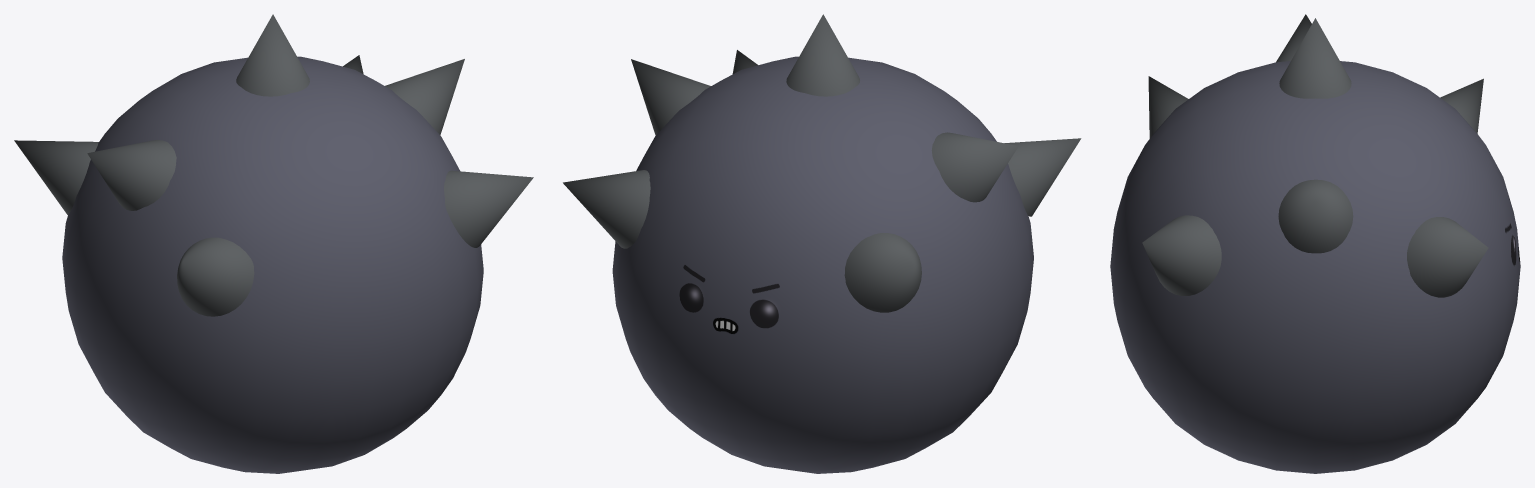
File: ball2.fbx
3 renders of one model, left to right at view 1: azimuth 30°, elevation 25°; view 2: azimuth 150°, elevation 25°; view 3: azimuth 270°, elevation 25°, orthographic.
Visible parts, largest first — view 1: Cube, Cone.003, Cone.006, Cone.002, Cone, Cone.004, Cone.001; view 2: Cube, Cone.004, Cone.005, Cone.002, Cone, Cone.003, Cone.001; view 3: Cube, Cone.006, Cone.005, Cone.001, Cone, Cone.003, Cone.004, Cone.002.
Part boxes in pixels (x1=…): Cube: x1=62, y1=56, x2=483, y2=473; Cone.003: x1=177, y1=237, x2=254, y2=316; Cone.006: x1=444, y1=170, x2=533, y2=247; Cone.002: x1=87, y1=140, x2=176, y2=210; Cone: x1=236, y1=14, x2=309, y2=96; Cone.004: x1=14, y1=140, x2=98, y2=214; Cone.001: x1=385, y1=59, x2=464, y2=135; Cube: x1=612, y1=56, x2=1033, y2=473; Cone.004: x1=844, y1=233, x2=921, y2=312; Cone.005: x1=563, y1=170, x2=650, y2=248; Cone.002: x1=931, y1=132, x2=1018, y2=202; Cone: x1=786, y1=14, x2=859, y2=96; Cone.003: x1=1004, y1=138, x2=1081, y2=216; Cone.001: x1=631, y1=59, x2=710, y2=135; Cube: x1=1110, y1=61, x2=1520, y2=473; Cone.006: x1=1142, y1=215, x2=1221, y2=295; Cone.005: x1=1407, y1=217, x2=1488, y2=297; Cone.001: x1=1278, y1=179, x2=1353, y2=253; Cone: x1=1279, y1=18, x2=1351, y2=98; Cone.003: x1=1148, y1=76, x2=1188, y2=138; Cone.004: x1=1440, y1=78, x2=1483, y2=133; Cone.002: x1=1276, y1=14, x2=1311, y2=62.
Bounding box in the file's own units: 180 × 196 × 168.
Materials: 2 (1 with a texture image).
